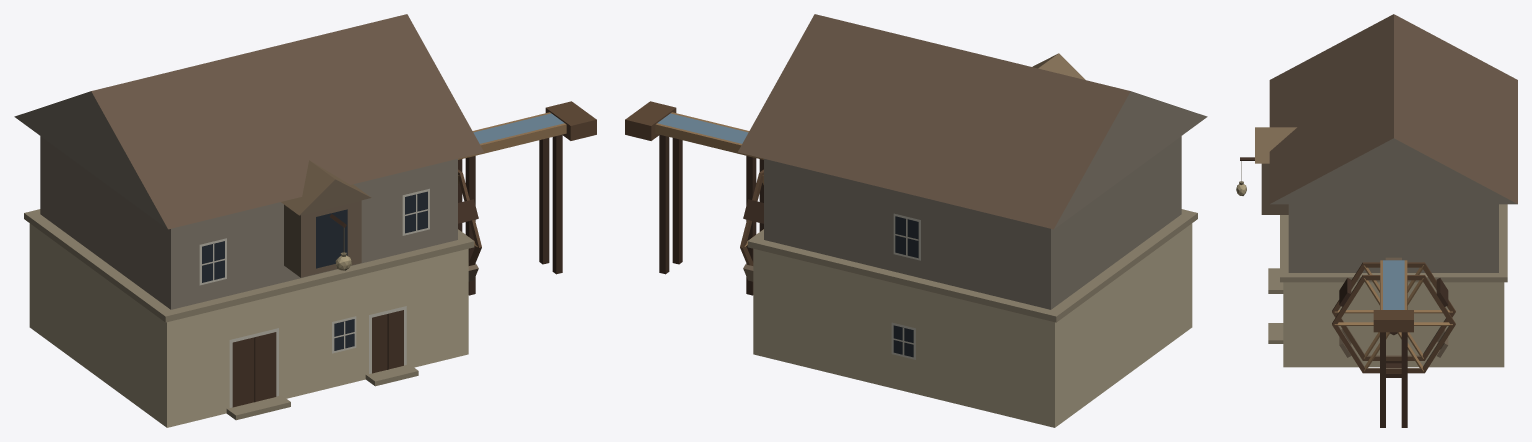
File: mill.glb
The picture shows the model from 3 angles, left to right: view 1: azimuth 30°, elevation 25°; view 2: azimuth 150°, elevation 25°; view 3: azimuth 270°, elevation 25°; orthographic projection. The views are drawn at different scales.
Parts seen in each view (by area): view 1: mill; view 2: mill; view 3: mill.
Boxes of the visible parts, x1=… form: mill: x1=14, y1=14, x2=596, y2=427; mill: x1=625, y1=14, x2=1207, y2=427; mill: x1=1236, y1=14, x2=1517, y2=427.
Bounding box in the file's own units: 17 × 9.5 × 10.45.
